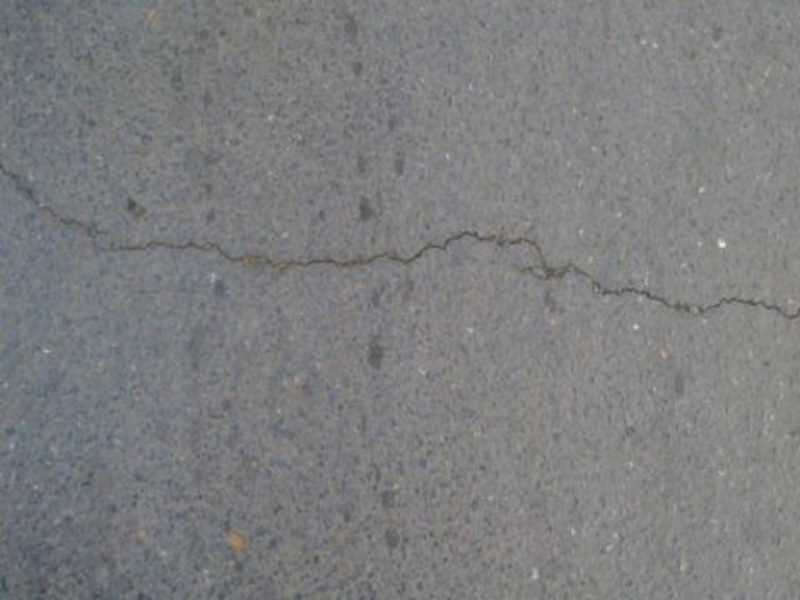crack: (10, 158, 787, 360)
